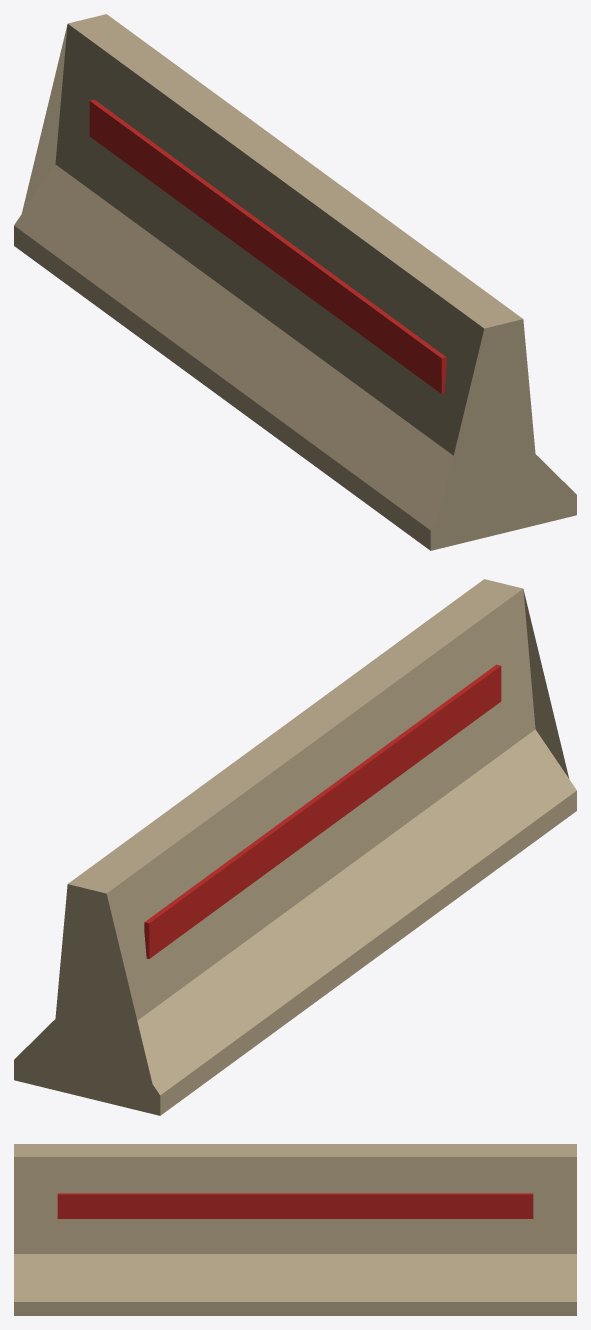
Rendered from ds_trk_jersey.glb.
The picture shows the model from 3 angles, top to bottom: view 1: azimuth 30°, elevation 25°; view 2: azimuth 150°, elevation 25°; view 3: azimuth 270°, elevation 25°; orthographic projection. The views are drawn at different scales.
Visible parts, largest first — view 1: ds_trk_jersey; view 2: ds_trk_jersey; view 3: ds_trk_jersey.
Part boxes in pixels (box(x1,y1,x2,y2)): ds_trk_jersey: box(14, 14, 576, 550); ds_trk_jersey: box(14, 579, 576, 1115); ds_trk_jersey: box(14, 1144, 576, 1315).
Bounding box in the file's own units: 0.5998 × 0.82 × 2.96.
